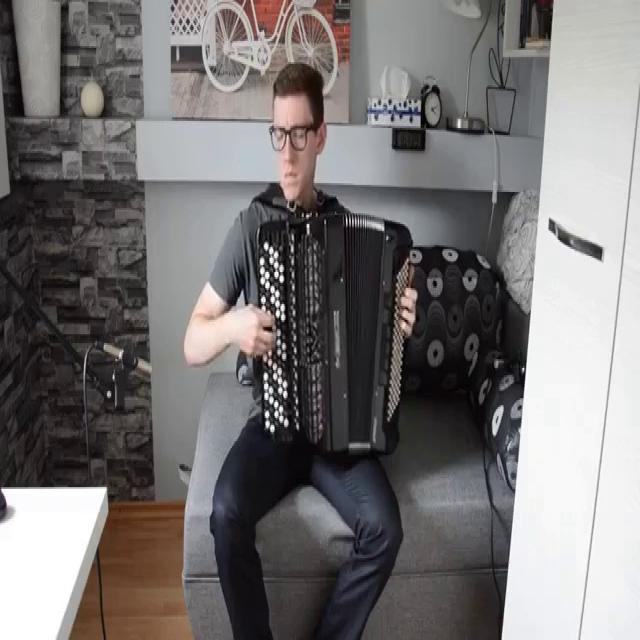Accordion: (250, 205, 409, 452)
